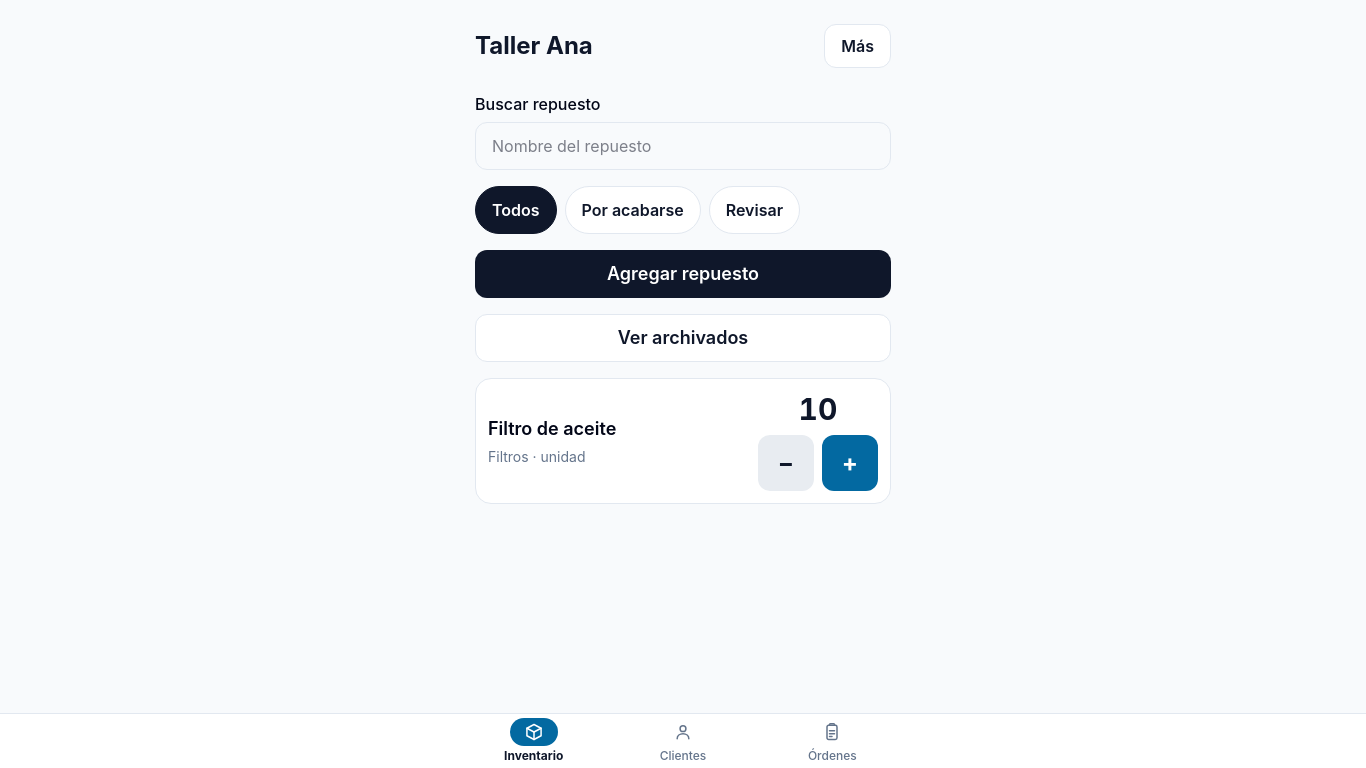
Test: InventoryPage › opens the detail screen when the row is tapped, not when a stepper button is tapped
Expected: the text "10" is shown, [799,391,837,427]
Click the button named "Agregar una unidad de Filtro de aceite": x=850, y=463 [822,435,878,491]
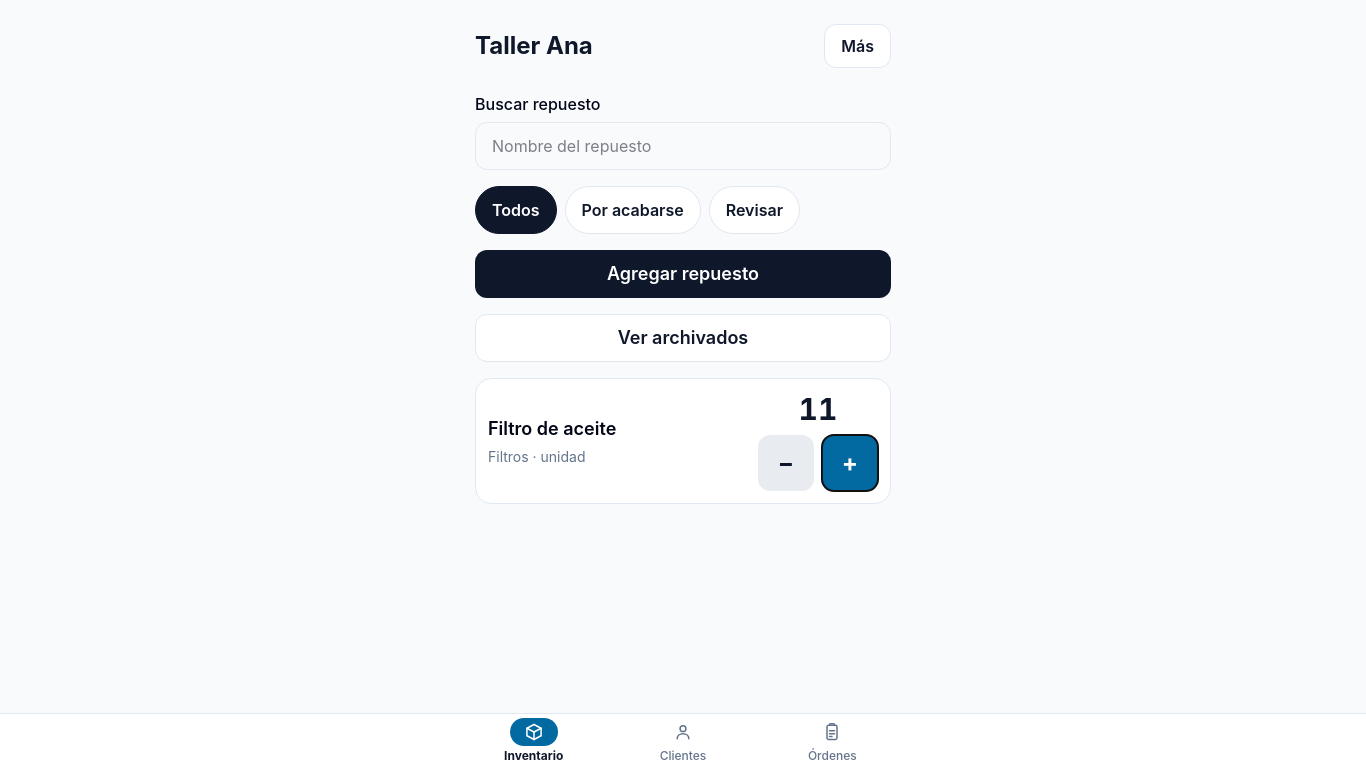
Expected: the text "Pantalla de detalle" is not shown
Click the text "Filtro de aceite": x=552, y=429 [488,415,616,443]
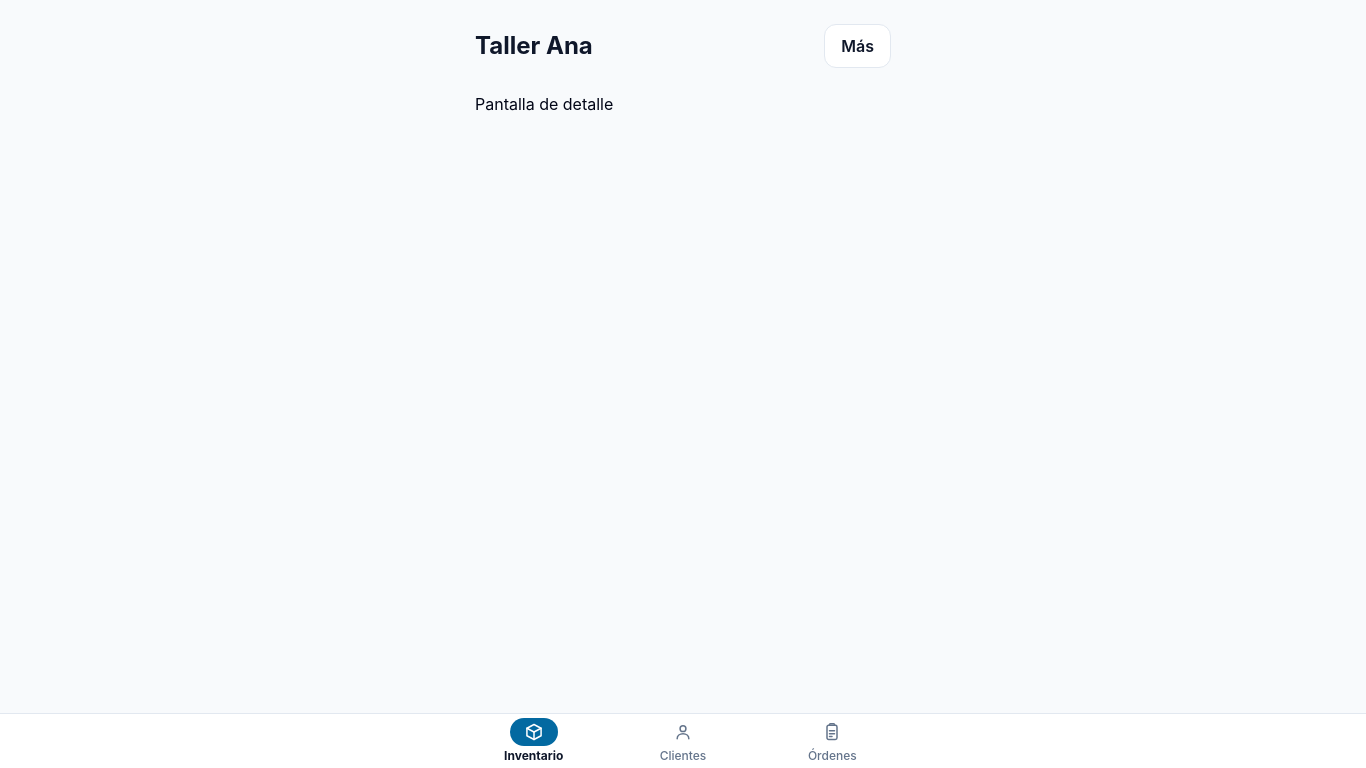
Expected: the text "Pantalla de detalle" is shown, [475,94,613,114]
